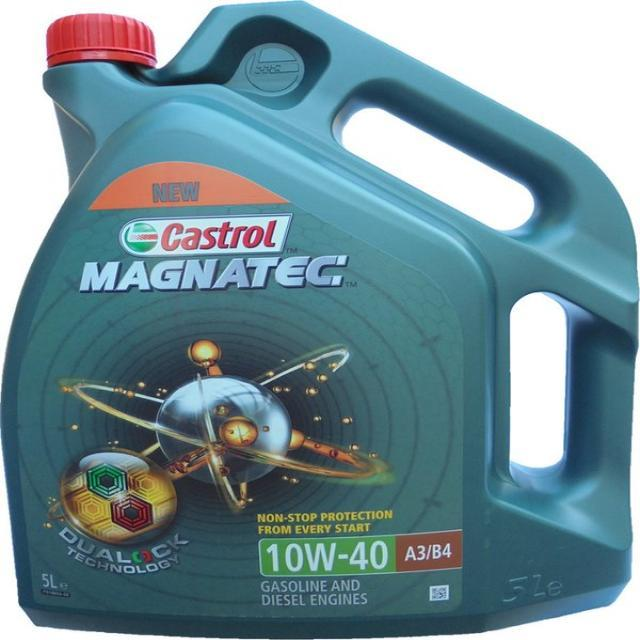motor_oil: (0, 2, 639, 638)
